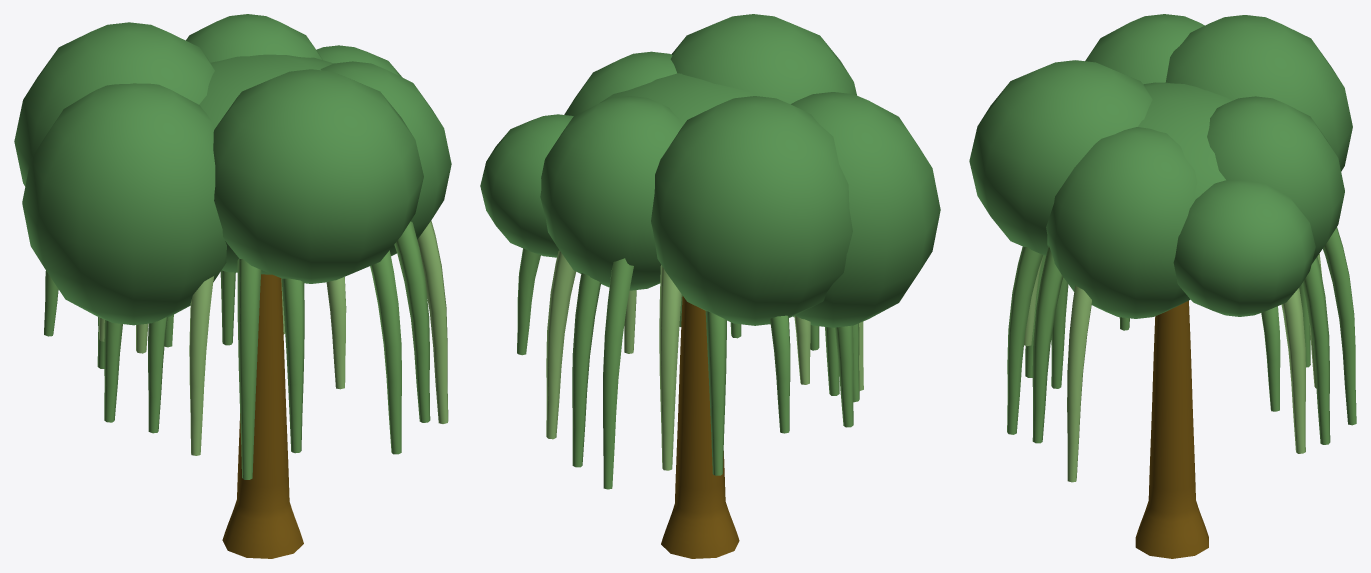
The model's file is willow_1.glb.
3 views of the same model, side by side, from view 1: azimuth 30°, elevation 25°; view 2: azimuth 150°, elevation 25°; view 3: azimuth 270°, elevation 25° (orthographic). The views are drawn at different scales.
Parts seen in each view (by area): view 1: crown, trunk; view 2: crown, trunk; view 3: crown, trunk.
Part boxes in pixels (left/top/right/bottom): crown: left=14, top=14, right=451, bottom=479; trunk: left=222, top=274, right=303, bottom=558; crown: left=480, top=14, right=940, bottom=489; trunk: left=661, top=296, right=739, bottom=558; crown: left=969, top=14, right=1356, bottom=482; trunk: left=1135, top=300, right=1208, bottom=558.
Size of the model in its own units: 1.8 by 2.1 by 1.55.
